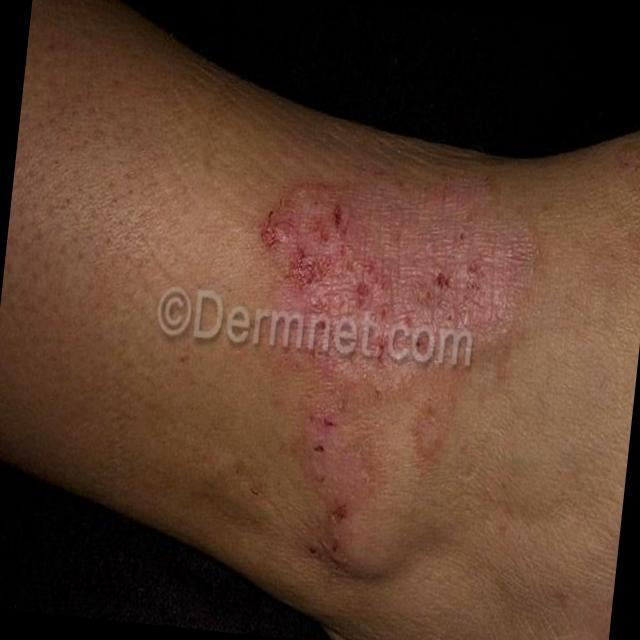Eczema: (253, 154, 534, 574)
